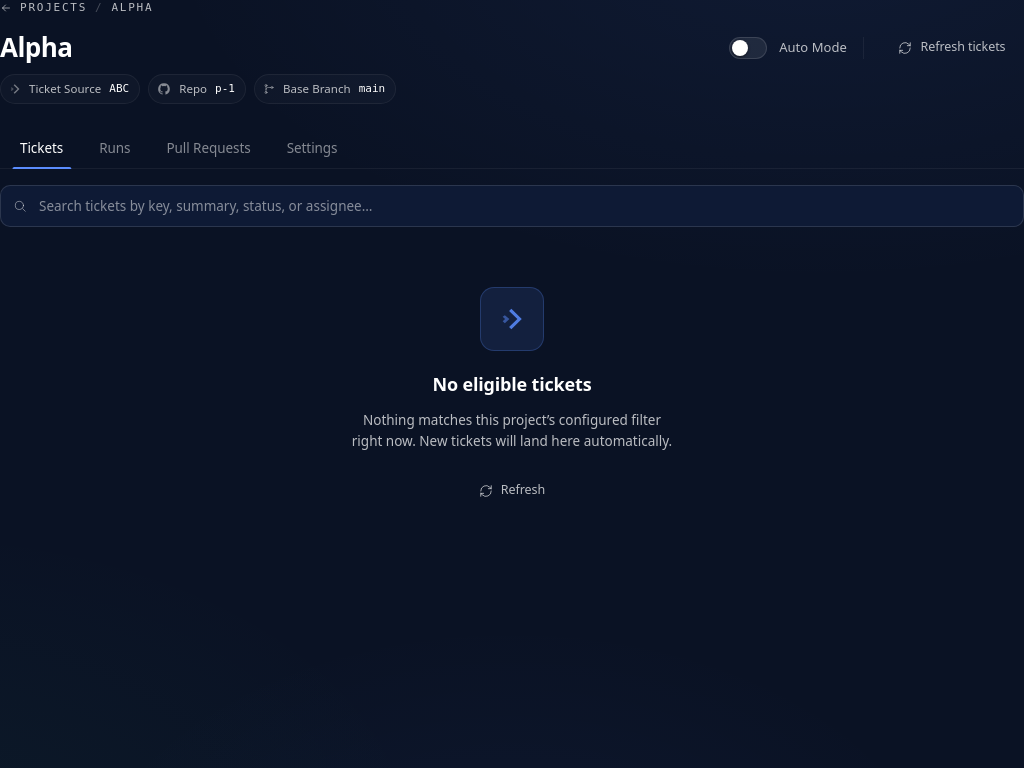
<ProjectDetail /> — DET › DET-RUNS-REFRESH page-level Refresh on Runs tab › RUN-REFRESH-002: clicking Refresh swaps stale rows for skeleton until the in-flight fetch resolves
The width and height of the screenshot is (1024, 768).
Click the tab "Runs" at (115, 148), box x1=83 y1=128 x2=146 y2=168
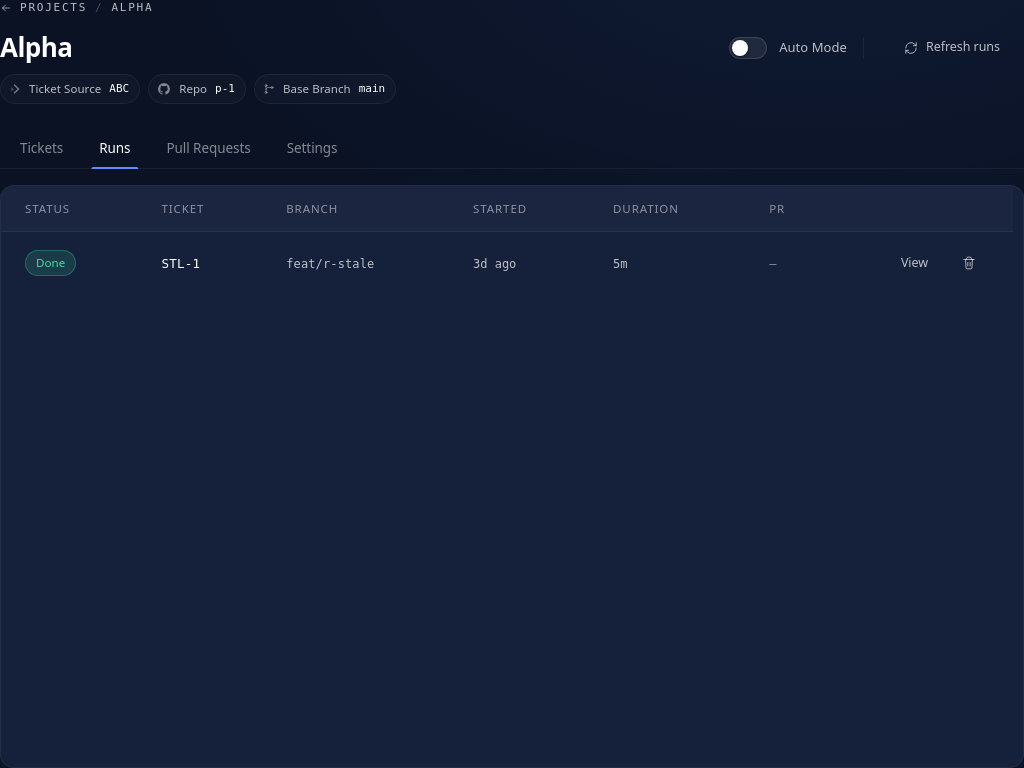
Now the row with test id "run-row-r-stale" is shown, box x1=1 y1=232 x2=1013 y2=294
Click the button with test id "refresh-button" at (952, 48), box x1=880 y1=32 x2=1023 y2=62
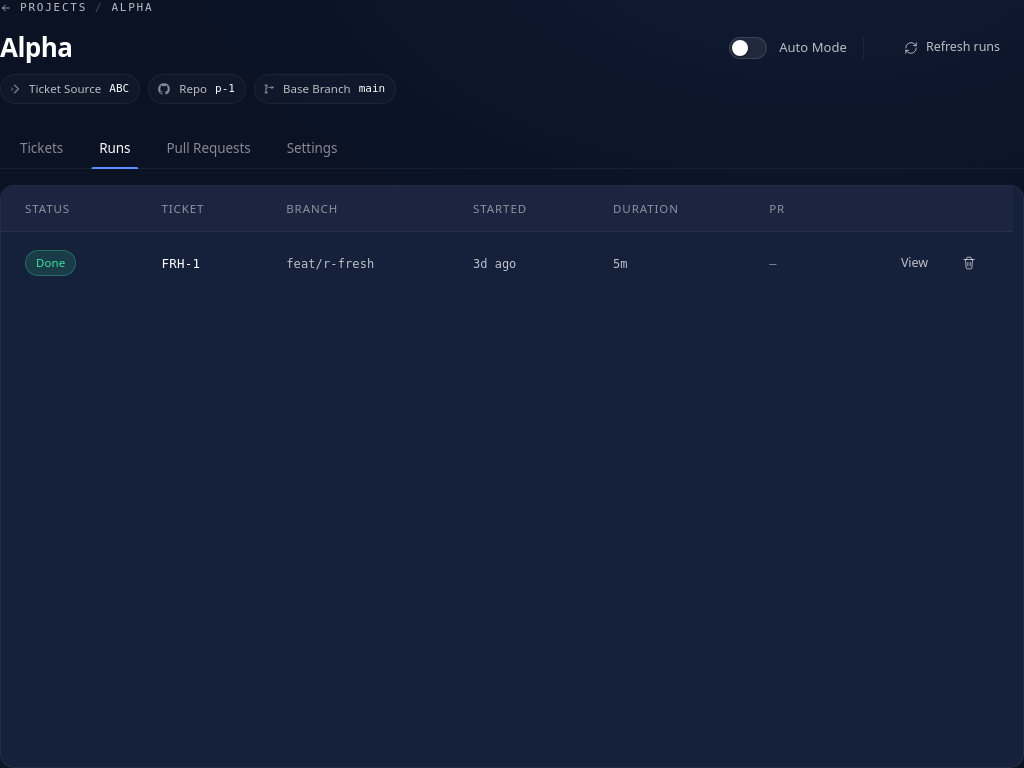
Now the element with test id "runs-tab-table" is shown
Now the row with test id "run-row-r-stale" is gone
Now the row with test id "run-row-r-fresh" is shown, box x1=1 y1=232 x2=1013 y2=294
